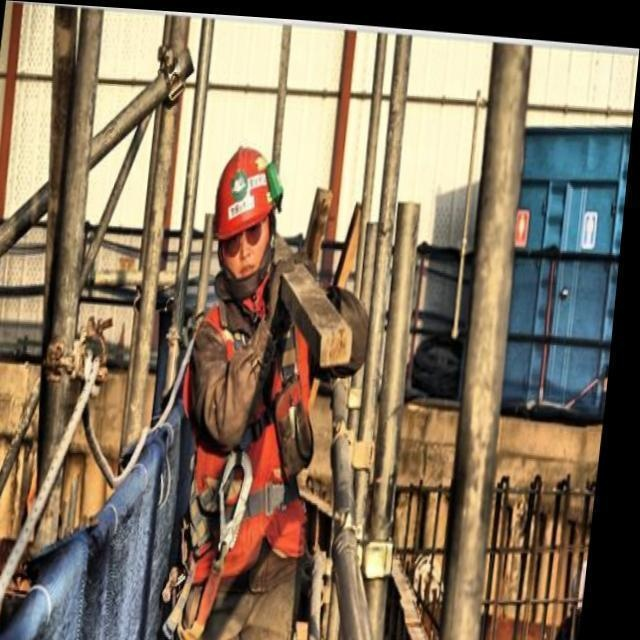Arnes_seguridad: (196, 282, 328, 570)
